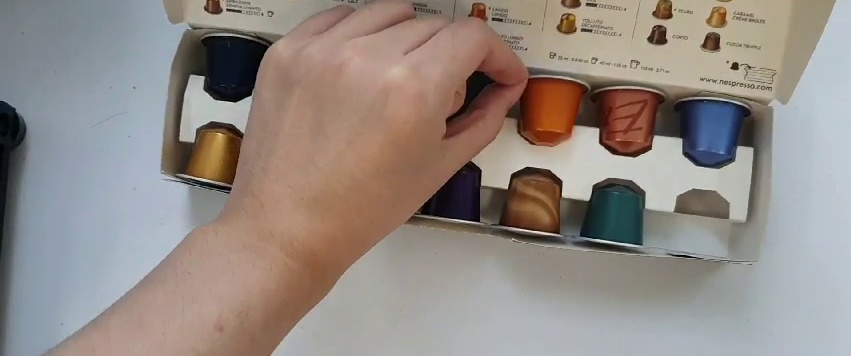capsule_5: (508, 71, 592, 147)
